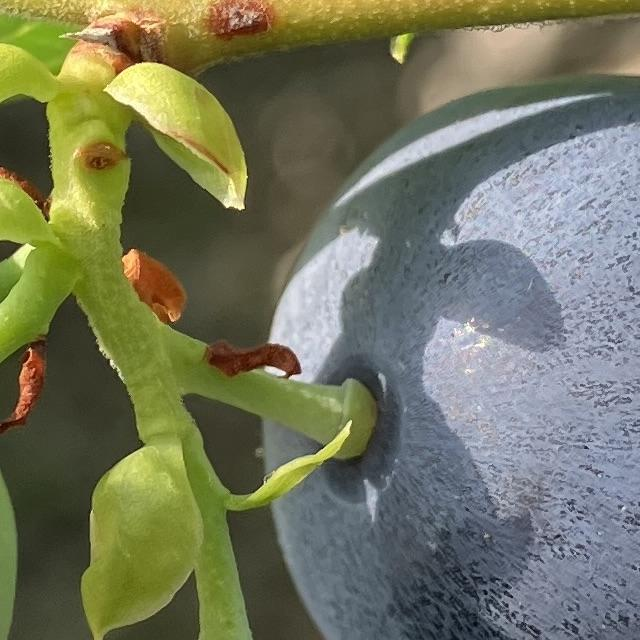Blueberries: (252, 71, 640, 640)
